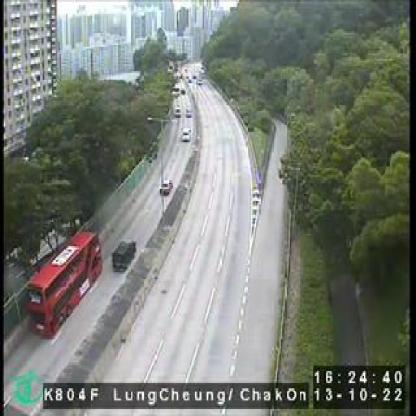Bus: (27, 231, 101, 339)
Car: (110, 238, 136, 270), (162, 178, 173, 193), (180, 130, 190, 143), (174, 107, 183, 118)
